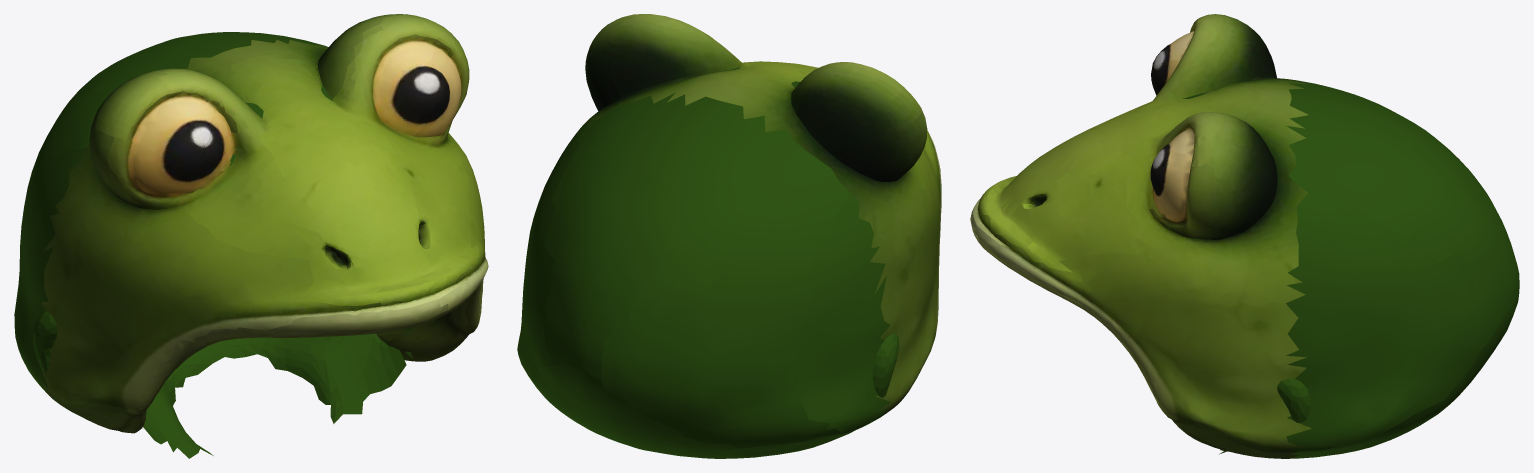
File: frog.glb
3 renders of one model, left to right at view 1: azimuth 30°, elevation 25°; view 2: azimuth 150°, elevation 25°; view 3: azimuth 270°, elevation 25°, orthographic. The views are drawn at different scales.
Parts seen in each view (by area): view 1: geometry_0, HoodAnatomicalLining; view 2: geometry_0, HoodAnatomicalLining; view 3: geometry_0, HoodAnatomicalLining.
Boxes of the visible parts, box(x1,y1,x2,y2) form: geometry_0: box(14, 14, 488, 433); HoodAnatomicalLining: box(33, 84, 412, 458); geometry_0: box(517, 14, 941, 458); HoodAnatomicalLining: box(724, 67, 898, 397); geometry_0: box(970, 14, 1519, 458); HoodAnatomicalLining: box(1182, 92, 1311, 454).
Size of the model in its own units: 0.4688 by 0.451 by 0.6358.
Materials: 2 (1 with a texture image).
